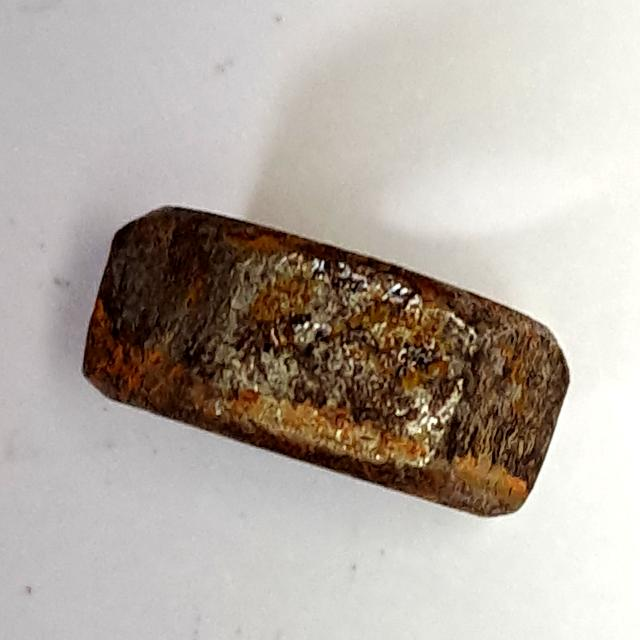Side_Rust: (61, 192, 586, 534)
